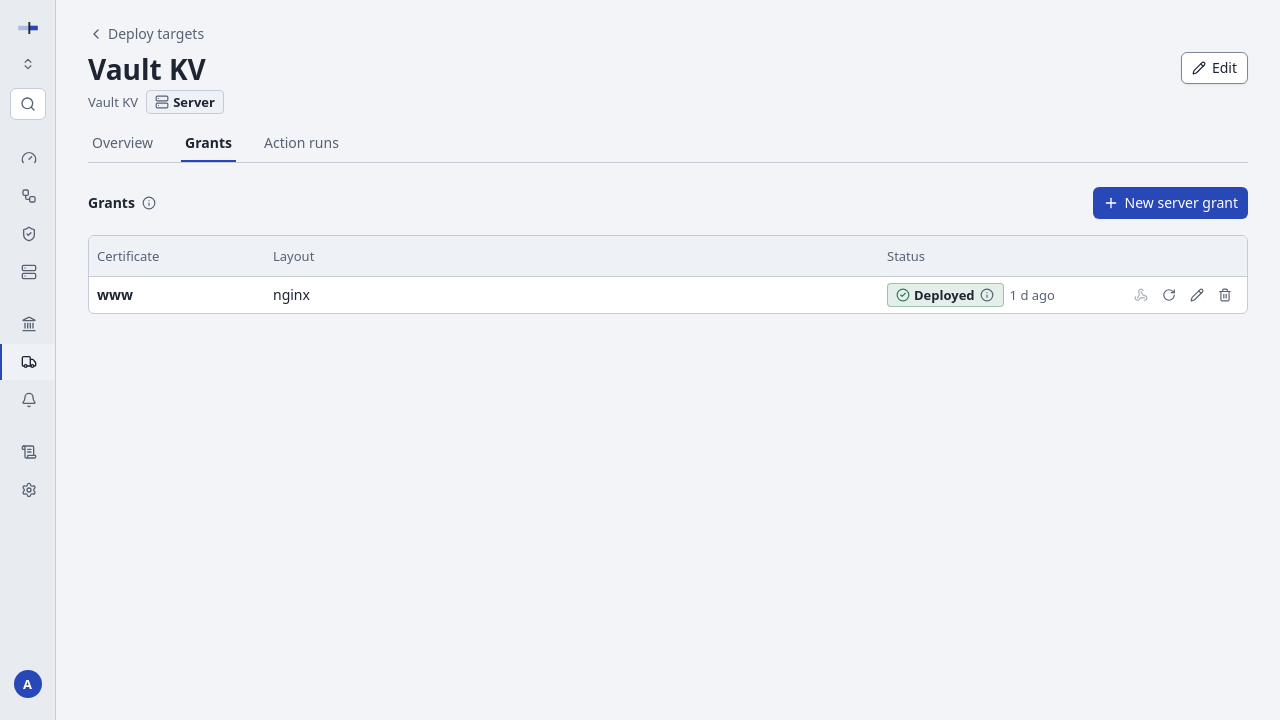
Scenario: redeploy toasts queued
Expected: the heading "Vault KV" is shown, 88,52 -> 206,86
Expected: the table named "Grants" is shown, 89,236 -> 1247,312
Click the button named "Redeploy www": point(1169, 294) 1155,280 -> 1183,308
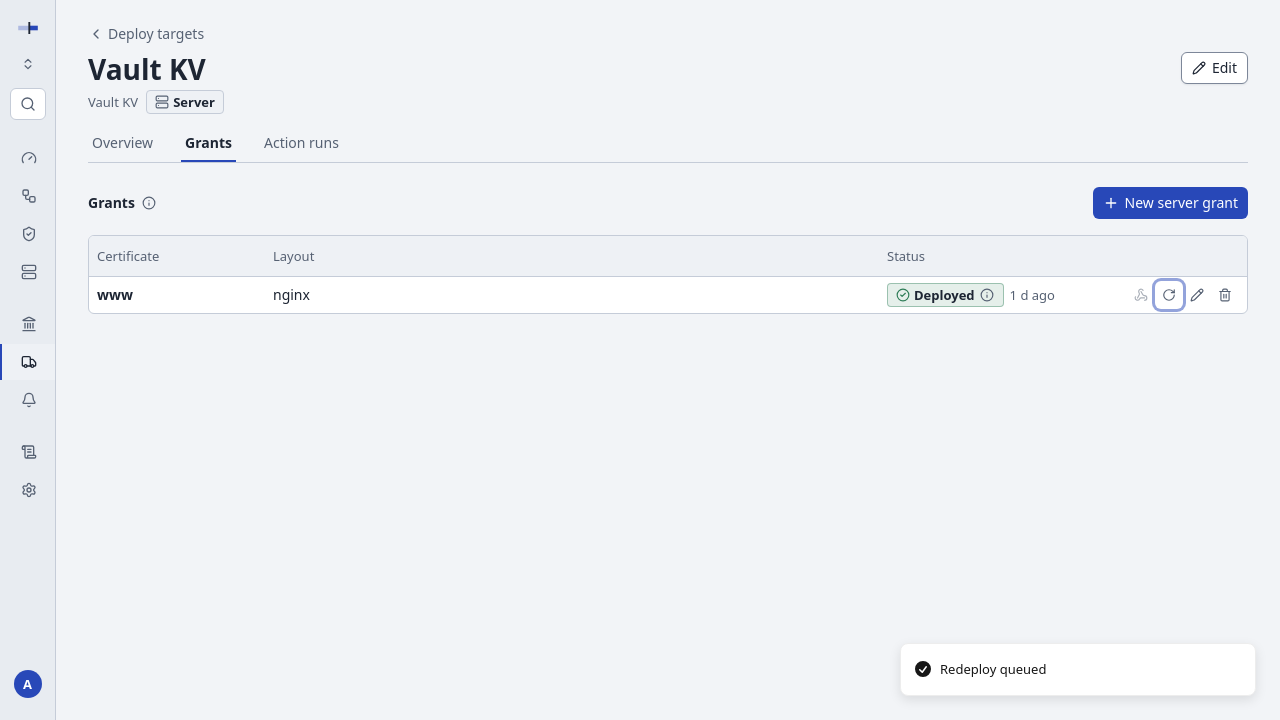
Expected: the text "Redeploy queued" is shown, 940,660 -> 1046,679
